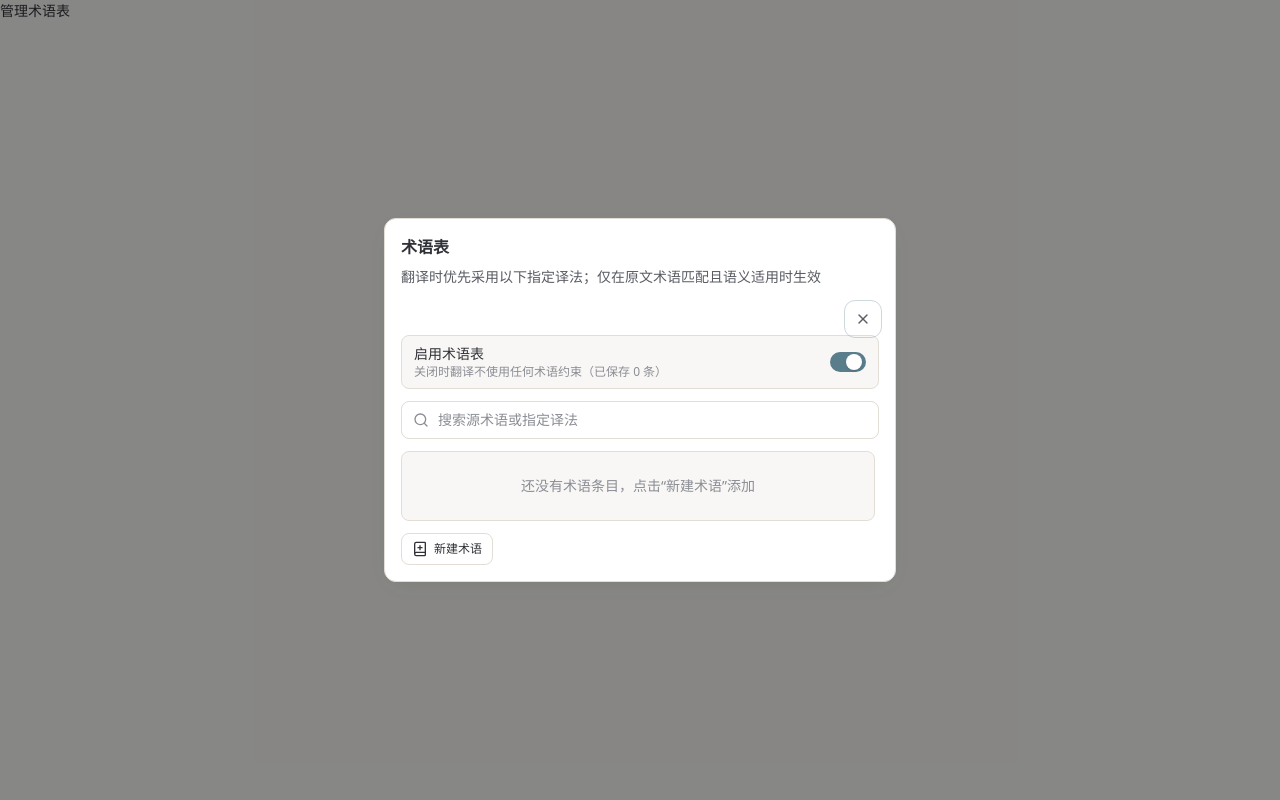
Scenario: TermbaseDialog › creates an entry through the inline editor and returns to the list
Click the button "新建术语" at {"x": 447, "y": 549}, box [401,533,493,565]
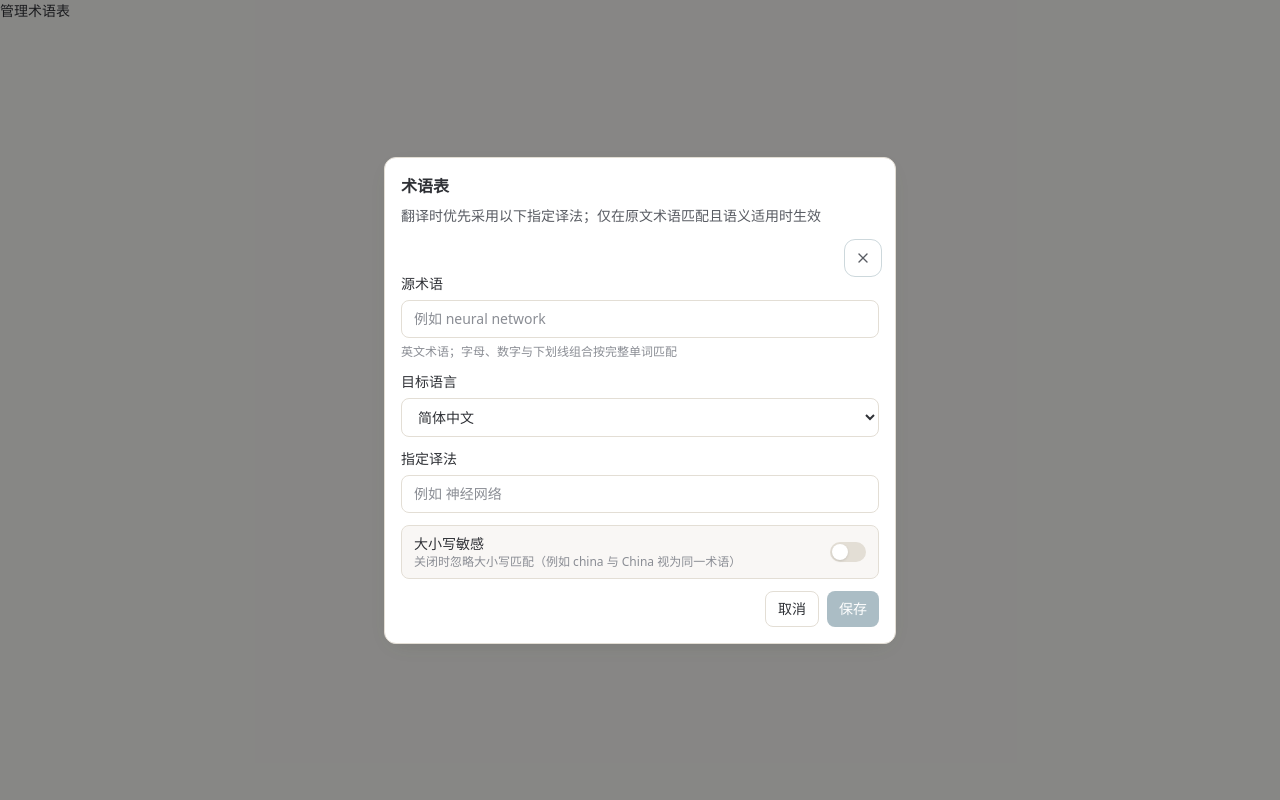
Now the field labelled "源术语" is shown
Type "function" into the field labelled "源术语" at {"x": 640, "y": 318}, box [401,300,879,338]
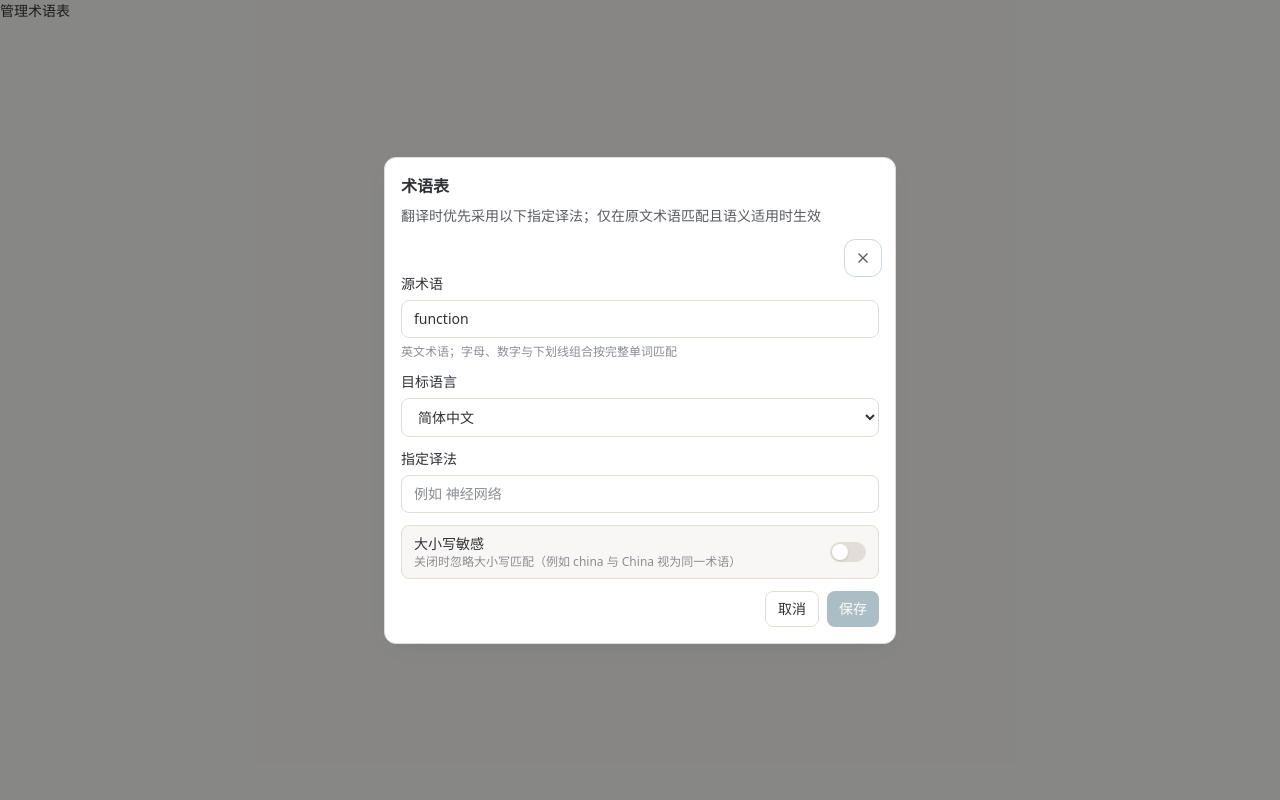
Type "函数" into the field labelled "指定译法" at {"x": 640, "y": 494}, box [401,474,879,512]
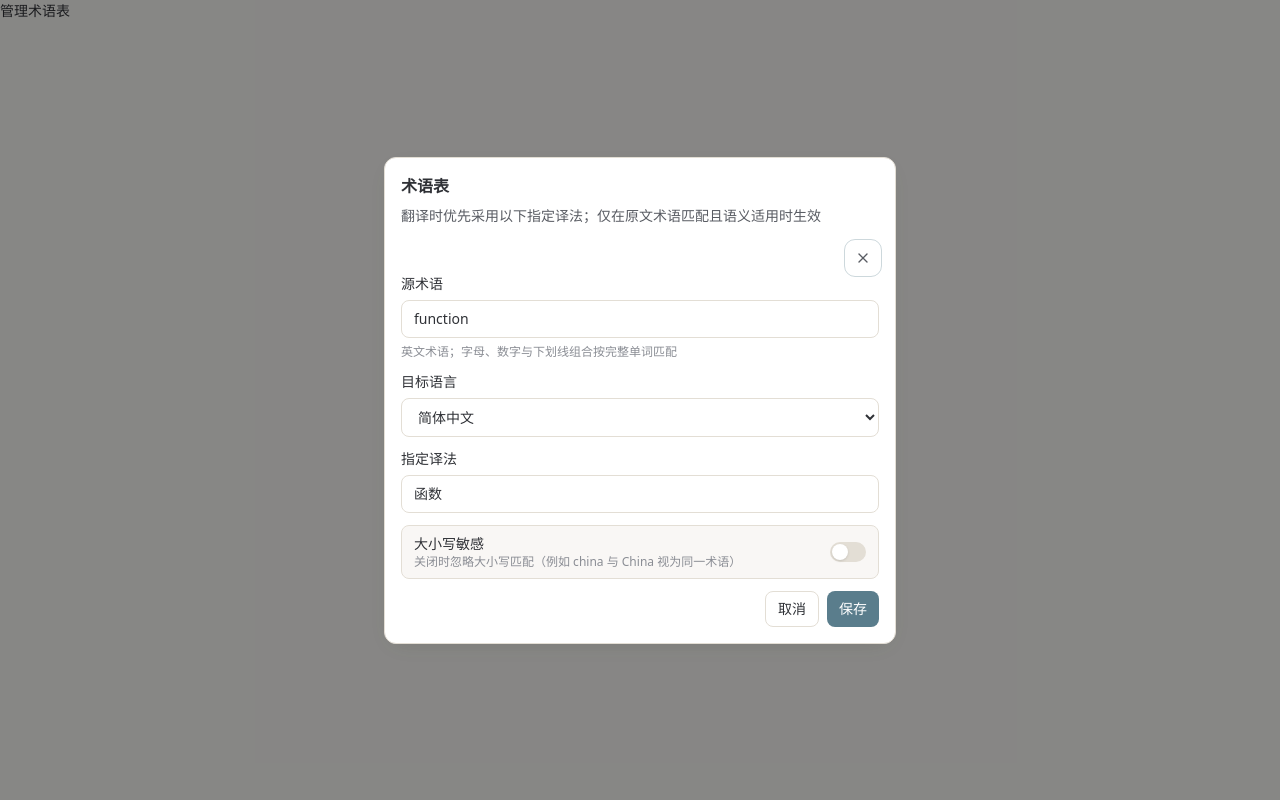
Click the button "保存" at {"x": 853, "y": 608}, box [827,590,879,626]
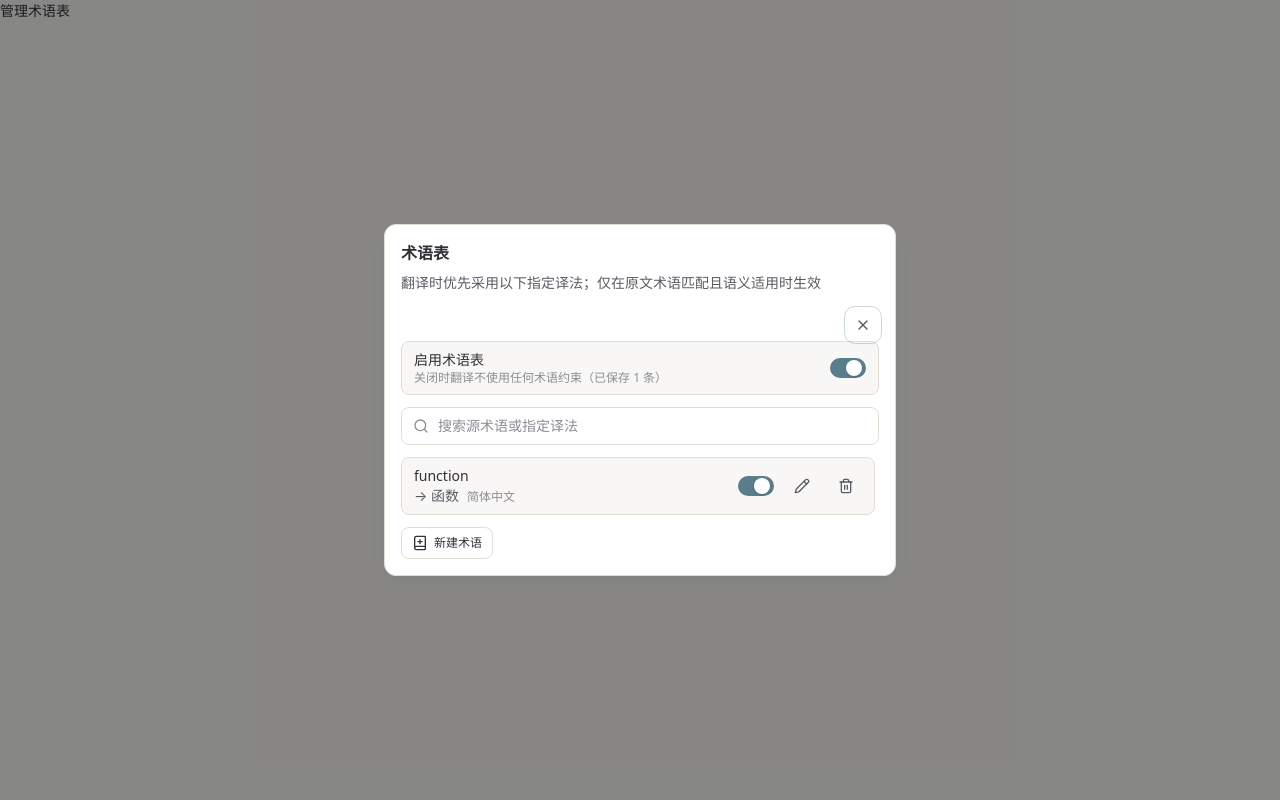
Now the text "function" is shown, box [414,466,469,485]
